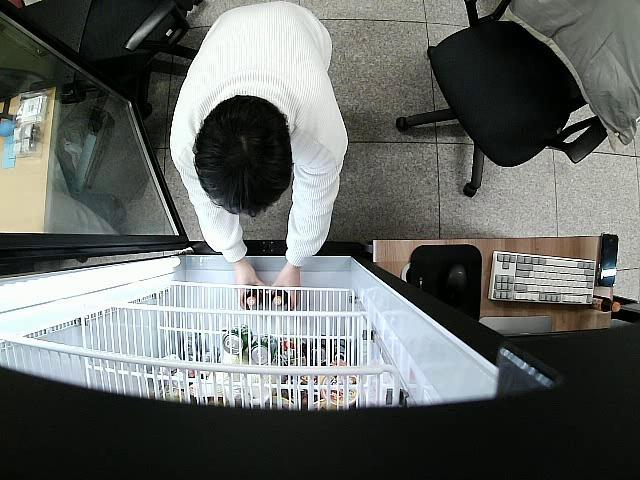17_vita500: (272, 287, 288, 307), (245, 288, 261, 305)
